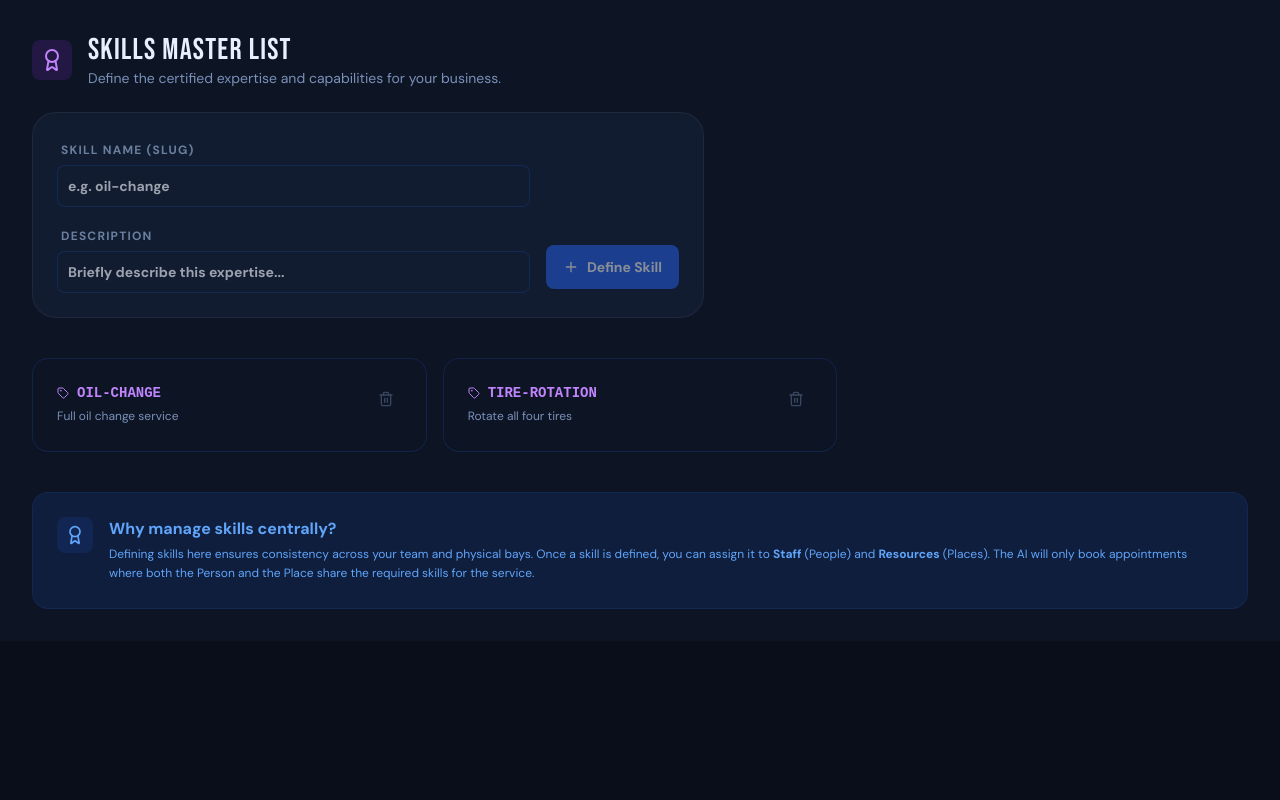
SkillManagementView — create skill form › SAD: API error shows inline error message
Type "duplicate-skill" into the field with placeholder "e.g. oil-change" at x=293, y=186, box [57,165,530,207]
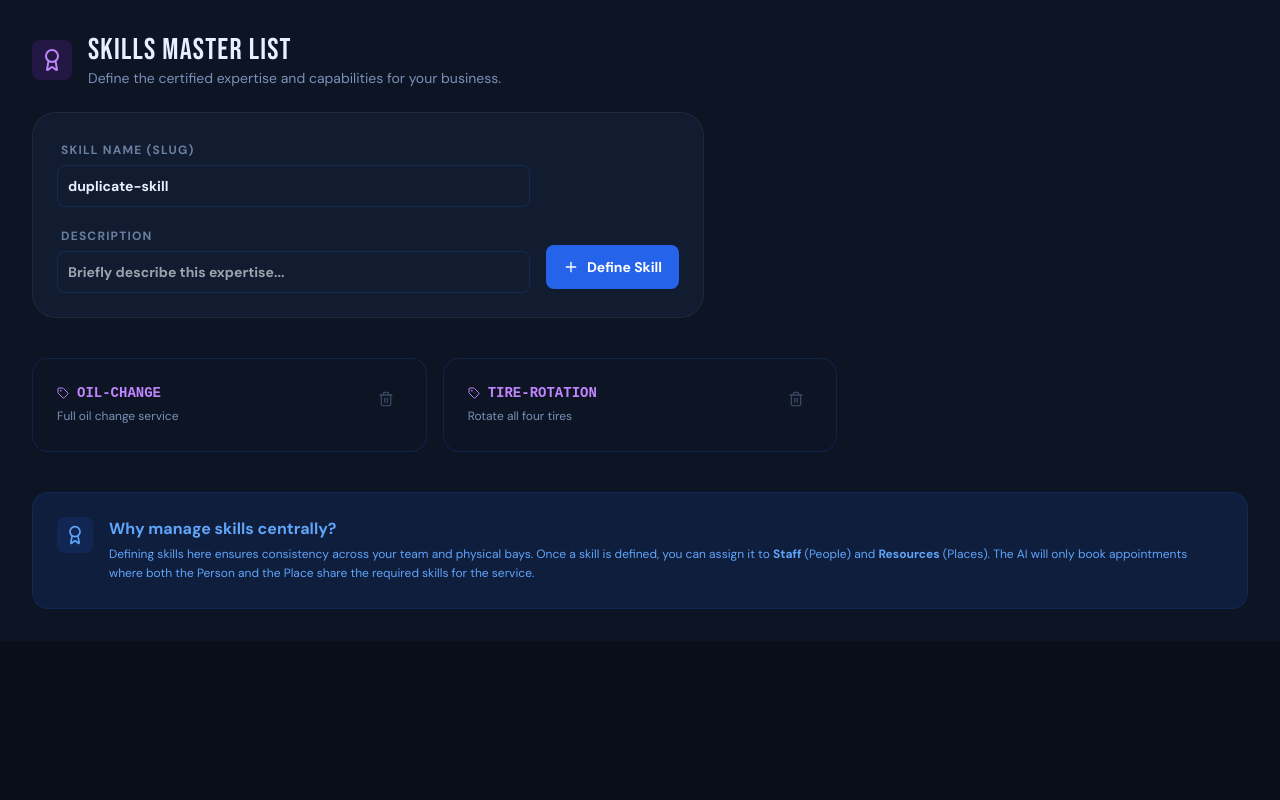
Click the button "Define Skill" at x=612, y=267, box [546,245,679,289]
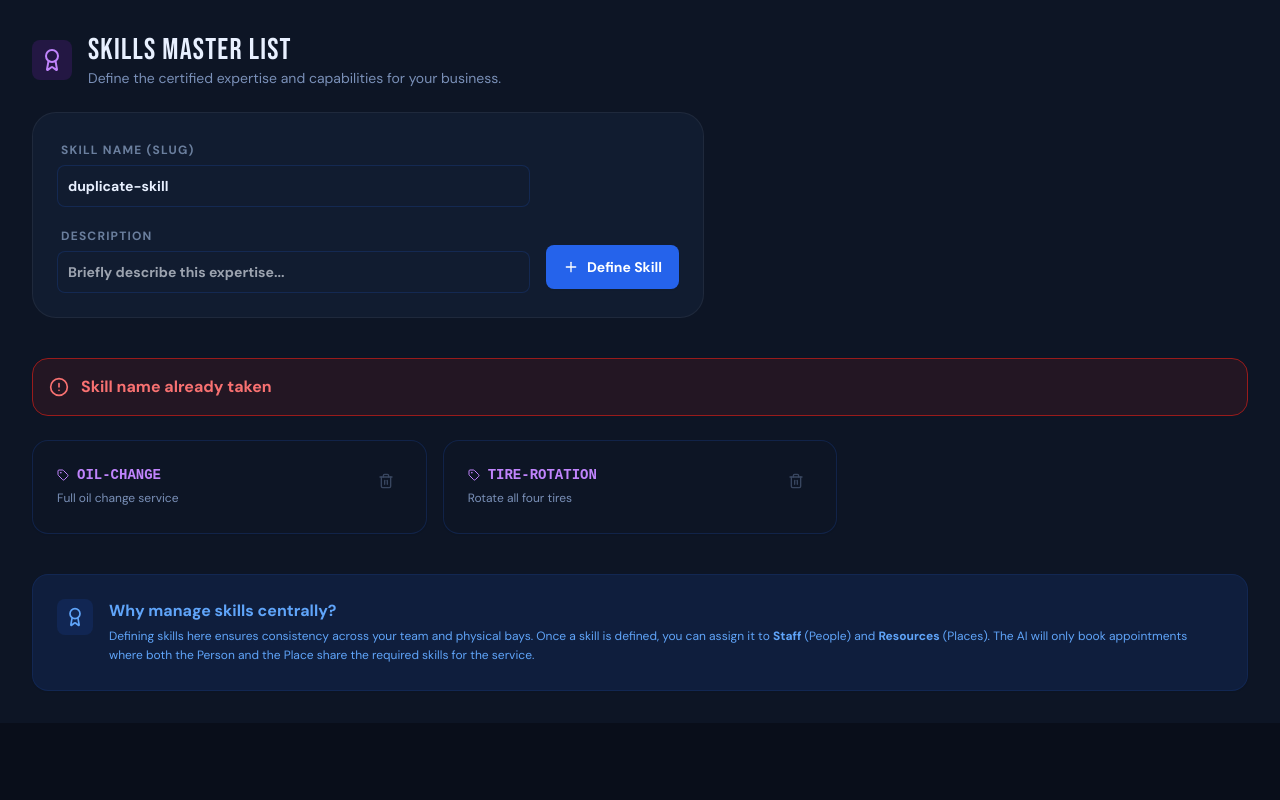
Expected: the text "Skill name already taken" is shown, [81,375,272,399]
